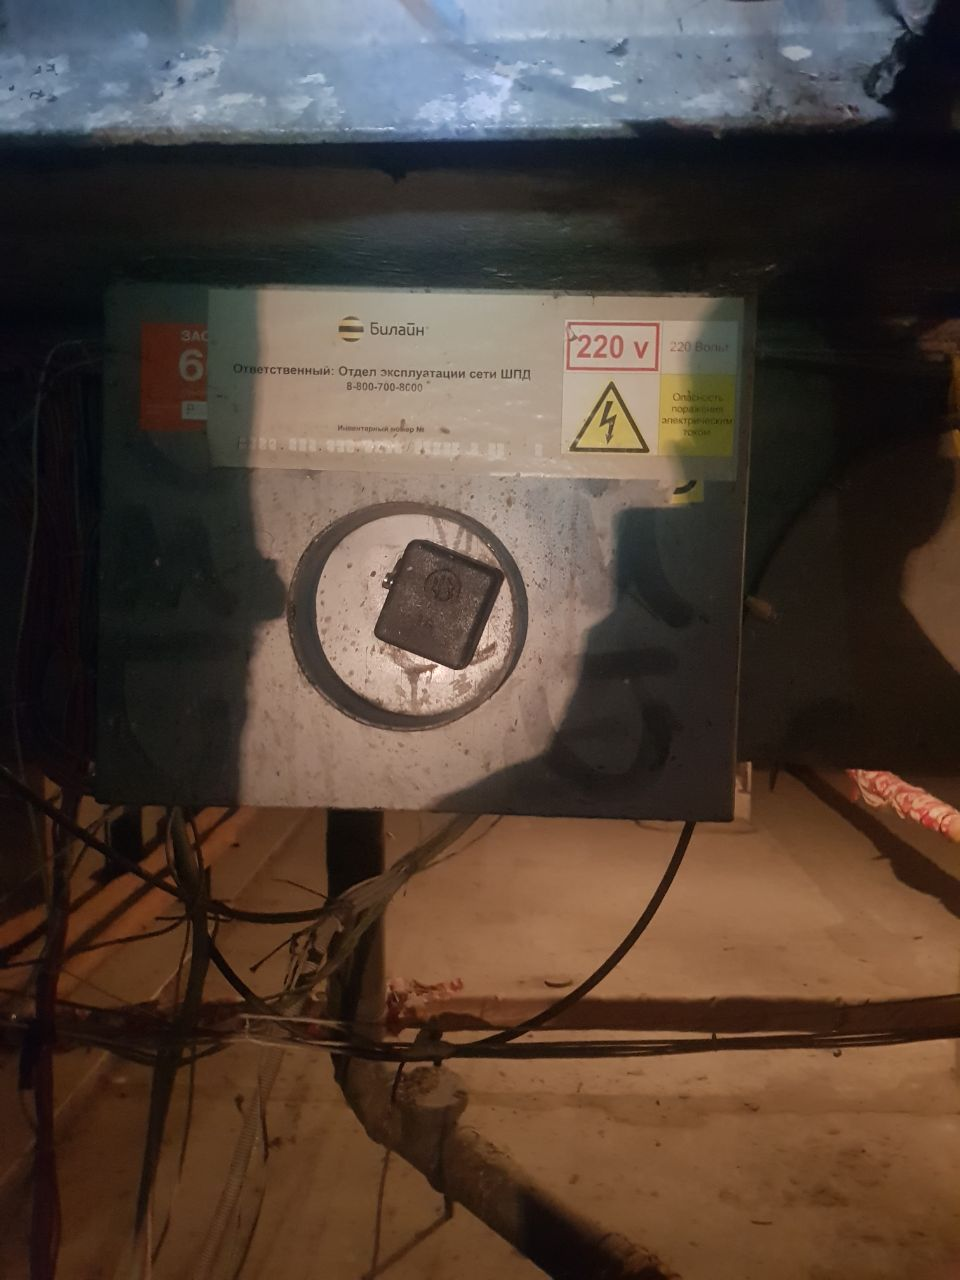shta-3: (86, 281, 760, 828)
